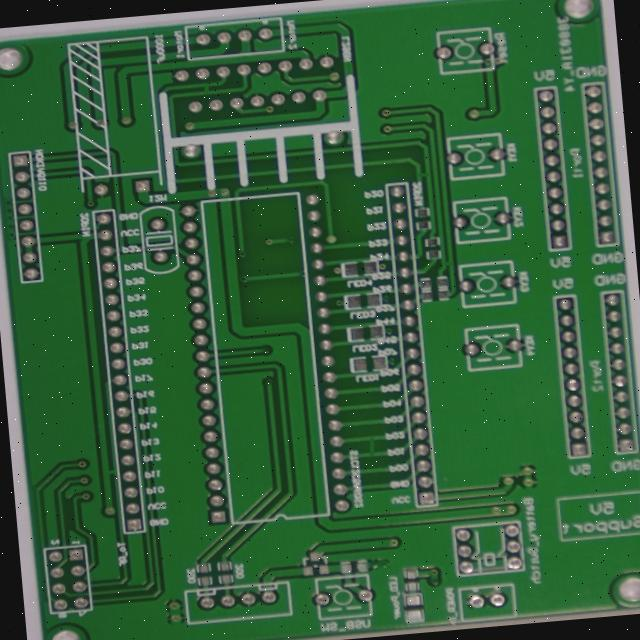short: (323, 419, 346, 447), (27, 451, 53, 471), (139, 39, 163, 60), (382, 133, 404, 153), (409, 228, 431, 247)
